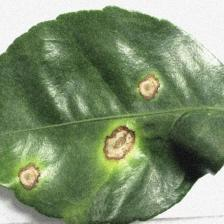canker: (6, 68, 168, 208)
